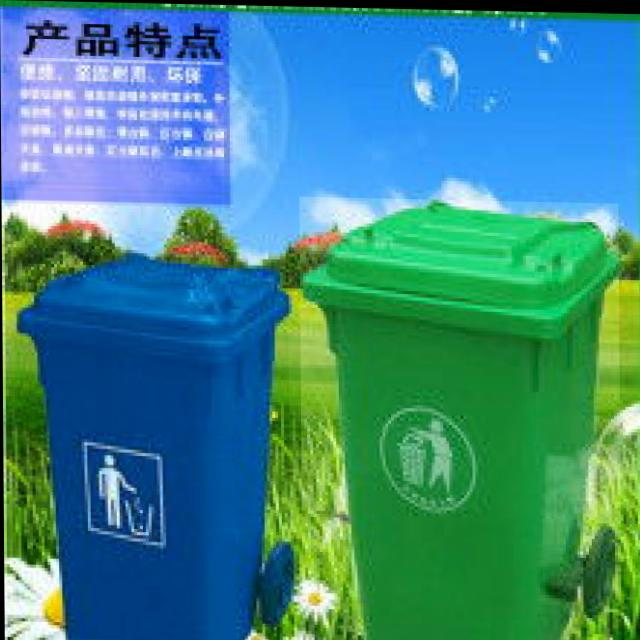garbage_bin: (299, 195, 621, 640), (13, 253, 290, 640)
